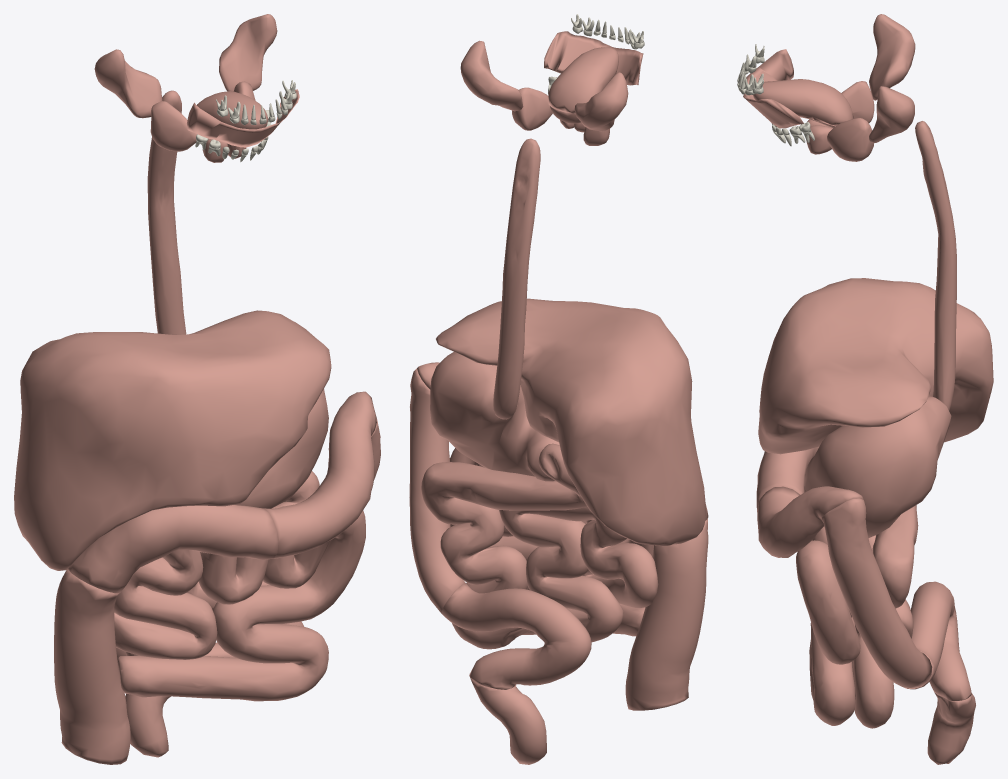
Rendered from pediatric_neonate_female.digestive.LOD0.glb.
3 views of the same model, side by side, from view 1: azimuth 30°, elevation 25°; view 2: azimuth 150°, elevation 25°; view 3: azimuth 270°, elevation 25° (orthographic). The views are drawn at different scales.
Parts seen in each view (by area): view 1: PEDIATRIC.NEONATE.FEMALE.DIGESTIVE.LIVER, PEDIATRIC.NEONATE.FEMALE.DIGESTIVE.SMALL_INTESTINE_WALL, PEDIATRIC.NEONATE.FEMALE.DIGESTIVE.ASCENDING_COLON_WALL, PEDIATRIC.NEONATE.FEMALE.DIGESTIVE.TRANSVERSE_COLON_WALL.R, PEDIATRIC.NEONATE.FEMALE.DIGESTIVE.TRANSVERSE_COLON_WALL.L, PEDIATRIC.NEONATE.FEMALE.DIGESTIVE.OESOPHAGUS_WALL, PEDIATRIC.NEONATE.FEMALE.DIGESTIVE.SALIVARY_GLANDS.R, PEDIATRIC.NEONATE.FEMALE.DIGESTIVE.STOMACH_WALL, PEDIATRIC.NEONATE.FEMALE.DIGESTIVE.SALIVARY_GLANDS.L, PEDIATRIC.NEONATE.FEMALE.DIGESTIVE.RECTUM_WALL, PEDIATRIC.NEONATE.FEMALE.DIGESTIVE.ORAL_MUCOSA_LIP_AND_CHEEK, PEDIATRIC.NEONATE.FEMALE.DIGESTIVE.ORAL_MUCOSA_MOUTH_FLOOR (+2 smaller); view 2: PEDIATRIC.NEONATE.FEMALE.DIGESTIVE.LIVER, PEDIATRIC.NEONATE.FEMALE.DIGESTIVE.SMALL_INTESTINE_WALL, PEDIATRIC.NEONATE.FEMALE.DIGESTIVE.ASCENDING_COLON_WALL, PEDIATRIC.NEONATE.FEMALE.DIGESTIVE.SIGMOID_COLON_WALL, PEDIATRIC.NEONATE.FEMALE.DIGESTIVE.STOMACH_WALL, PEDIATRIC.NEONATE.FEMALE.DIGESTIVE.OESOPHAGUS_WALL, PEDIATRIC.NEONATE.FEMALE.DIGESTIVE.DESCENDING_COLON_WALL, PEDIATRIC.NEONATE.FEMALE.DIGESTIVE.SALIVARY_GLANDS.L, PEDIATRIC.NEONATE.FEMALE.DIGESTIVE.RECTUM_WALL, PEDIATRIC.NEONATE.FEMALE.DIGESTIVE.ORAL_MUCOSA_MOUTH_FLOOR, PEDIATRIC.NEONATE.FEMALE.DIGESTIVE.SALIVARY_GLANDS.R, PEDIATRIC.NEONATE.FEMALE.DIGESTIVE.ORAL_MUCOSA_LIP_AND_CHEEK (+1 smaller); view 3: PEDIATRIC.NEONATE.FEMALE.DIGESTIVE.LIVER, PEDIATRIC.NEONATE.FEMALE.DIGESTIVE.SMALL_INTESTINE_WALL, PEDIATRIC.NEONATE.FEMALE.DIGESTIVE.STOMACH_WALL, PEDIATRIC.NEONATE.FEMALE.DIGESTIVE.DESCENDING_COLON_WALL, PEDIATRIC.NEONATE.FEMALE.DIGESTIVE.OESOPHAGUS_WALL, PEDIATRIC.NEONATE.FEMALE.DIGESTIVE.SIGMOID_COLON_WALL, PEDIATRIC.NEONATE.FEMALE.DIGESTIVE.TRANSVERSE_COLON_WALL.L, PEDIATRIC.NEONATE.FEMALE.DIGESTIVE.SALIVARY_GLANDS.L, PEDIATRIC.NEONATE.FEMALE.DIGESTIVE.SALIVARY_GLANDS.R, PEDIATRIC.NEONATE.FEMALE.DIGESTIVE.ORAL_MUCOSA_MOUTH_FLOOR, PEDIATRIC.NEONATE.FEMALE.DIGESTIVE.RECTUM_WALL, PEDIATRIC.NEONATE.FEMALE.DIGESTIVE.TRANSVERSE_COLON_WALL.R (+3 smaller).
Part boxes in pixels (x1,y1,x2,y2): PEDIATRIC.NEONATE.FEMALE.DIGESTIVE.LIVER: (14, 310, 331, 570); PEDIATRIC.NEONATE.FEMALE.DIGESTIVE.SMALL_INTESTINE_WALL: (114, 471, 365, 701); PEDIATRIC.NEONATE.FEMALE.DIGESTIVE.ASCENDING_COLON_WALL: (54, 569, 130, 764); PEDIATRIC.NEONATE.FEMALE.DIGESTIVE.TRANSVERSE_COLON_WALL.R: (67, 505, 278, 593); PEDIATRIC.NEONATE.FEMALE.DIGESTIVE.TRANSVERSE_COLON_WALL.L: (261, 391, 376, 558); PEDIATRIC.NEONATE.FEMALE.DIGESTIVE.OESOPHAGUS_WALL: (147, 90, 186, 334); PEDIATRIC.NEONATE.FEMALE.DIGESTIVE.SALIVARY_GLANDS.R: (94, 49, 227, 162); PEDIATRIC.NEONATE.FEMALE.DIGESTIVE.STOMACH_WALL: (234, 389, 328, 508); PEDIATRIC.NEONATE.FEMALE.DIGESTIVE.SALIVARY_GLANDS.L: (219, 14, 277, 158); PEDIATRIC.NEONATE.FEMALE.DIGESTIVE.RECTUM_WALL: (125, 693, 170, 757); PEDIATRIC.NEONATE.FEMALE.DIGESTIVE.ORAL_MUCOSA_LIP_AND_CHEEK: (187, 89, 299, 147); PEDIATRIC.NEONATE.FEMALE.DIGESTIVE.ORAL_MUCOSA_MOUTH_FLOOR: (196, 91, 268, 129); PEDIATRIC.NEONATE.FEMALE.DIGESTIVE.LIVER: (436, 298, 706, 546); PEDIATRIC.NEONATE.FEMALE.DIGESTIVE.SMALL_INTESTINE_WALL: (421, 443, 658, 649); PEDIATRIC.NEONATE.FEMALE.DIGESTIVE.ASCENDING_COLON_WALL: (625, 518, 708, 710); PEDIATRIC.NEONATE.FEMALE.DIGESTIVE.SIGMOID_COLON_WALL: (441, 583, 591, 689); PEDIATRIC.NEONATE.FEMALE.DIGESTIVE.STOMACH_WALL: (430, 352, 559, 481); PEDIATRIC.NEONATE.FEMALE.DIGESTIVE.OESOPHAGUS_WALL: (493, 138, 540, 419); PEDIATRIC.NEONATE.FEMALE.DIGESTIVE.DESCENDING_COLON_WALL: (409, 368, 465, 613); PEDIATRIC.NEONATE.FEMALE.DIGESTIVE.SALIVARY_GLANDS.L: (460, 40, 574, 130); PEDIATRIC.NEONATE.FEMALE.DIGESTIVE.RECTUM_WALL: (470, 678, 546, 764); PEDIATRIC.NEONATE.FEMALE.DIGESTIVE.ORAL_MUCOSA_MOUTH_FLOOR: (548, 47, 618, 113); PEDIATRIC.NEONATE.FEMALE.DIGESTIVE.SALIVARY_GLANDS.R: (574, 72, 628, 145); PEDIATRIC.NEONATE.FEMALE.DIGESTIVE.ORAL_MUCOSA_LIP_AND_CHEEK: (544, 31, 643, 85); PEDIATRIC.NEONATE.FEMALE.DIGESTIVE.LIVER: (758, 278, 993, 454); PEDIATRIC.NEONATE.FEMALE.DIGESTIVE.SMALL_INTESTINE_WALL: (796, 486, 918, 728); PEDIATRIC.NEONATE.FEMALE.DIGESTIVE.STOMACH_WALL: (804, 396, 951, 537); PEDIATRIC.NEONATE.FEMALE.DIGESTIVE.DESCENDING_COLON_WALL: (821, 498, 932, 688); PEDIATRIC.NEONATE.FEMALE.DIGESTIVE.OESOPHAGUS_WALL: (915, 121, 956, 410); PEDIATRIC.NEONATE.FEMALE.DIGESTIVE.SIGMOID_COLON_WALL: (907, 581, 971, 700); PEDIATRIC.NEONATE.FEMALE.DIGESTIVE.TRANSVERSE_COLON_WALL.L: (757, 486, 863, 557); PEDIATRIC.NEONATE.FEMALE.DIGESTIVE.SALIVARY_GLANDS.L: (806, 86, 914, 161); PEDIATRIC.NEONATE.FEMALE.DIGESTIVE.SALIVARY_GLANDS.R: (807, 14, 915, 128); PEDIATRIC.NEONATE.FEMALE.DIGESTIVE.ORAL_MUCOSA_MOUTH_FLOOR: (753, 79, 853, 126); PEDIATRIC.NEONATE.FEMALE.DIGESTIVE.RECTUM_WALL: (927, 692, 975, 764); PEDIATRIC.NEONATE.FEMALE.DIGESTIVE.TRANSVERSE_COLON_WALL.R: (756, 446, 819, 509).
Bounding box in the file's own units: 0.1163 × 0.2539 × 0.0824.
